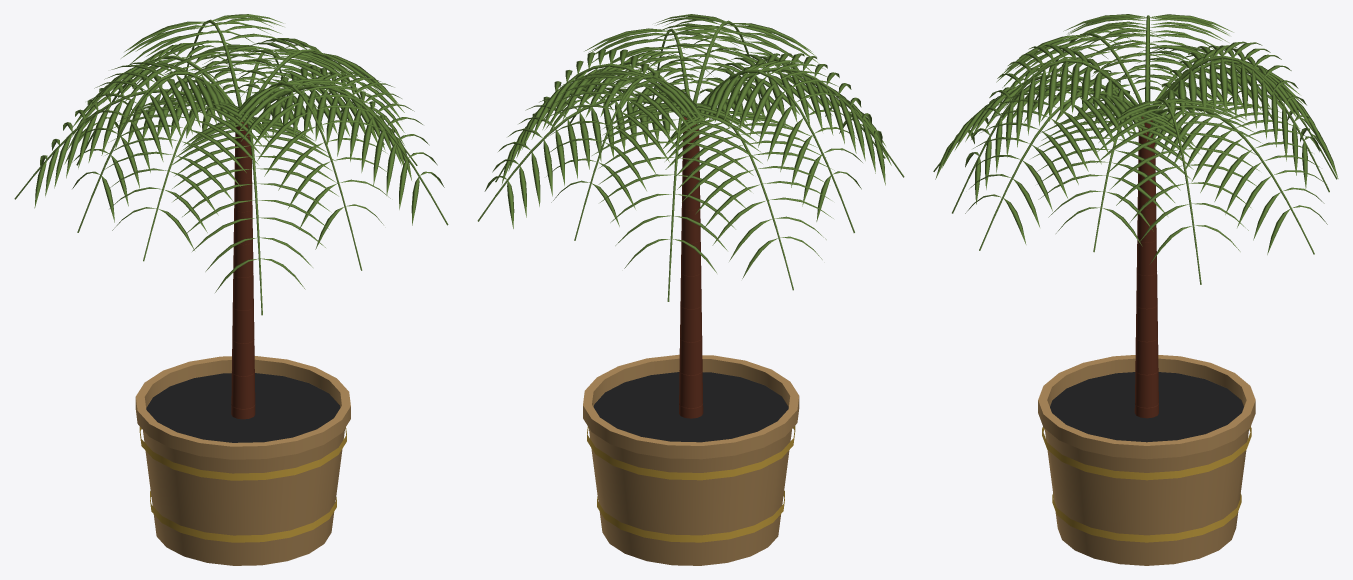
File: parametric-planter-2nd.glb
3 renders of one model, left to right at view 1: azimuth 30°, elevation 25°; view 2: azimuth 150°, elevation 25°; view 3: azimuth 270°, elevation 25°, orthographic.
Visible parts, largest first — view 1: parametric-planter-2nd; view 2: parametric-planter-2nd; view 3: parametric-planter-2nd.
Part boxes in pixels (<box>): parametric-planter-2nd: <box>14,14,448,565</box>; parametric-planter-2nd: <box>477,14,904,565</box>; parametric-planter-2nd: <box>933,14,1338,565</box>.
Bounding box in the file's own units: 1.09 × 1.45 × 1.12.
